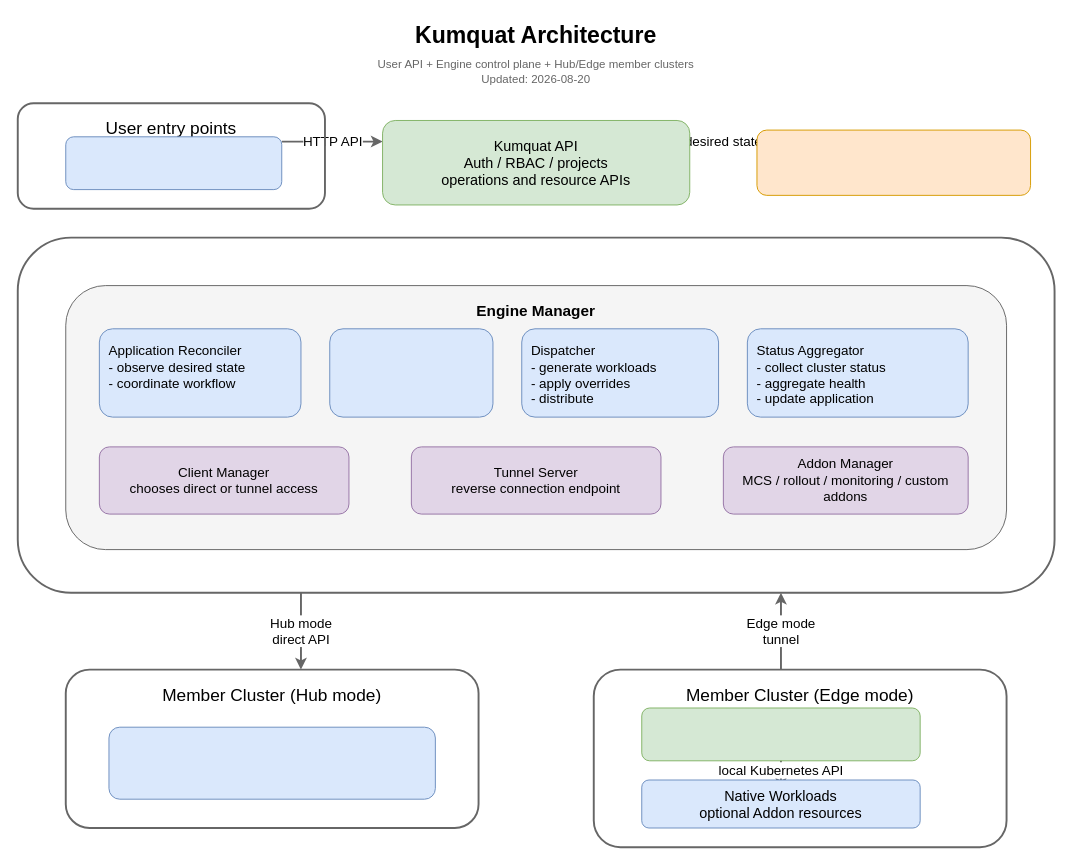
This 1071x864 diagram has some shape labels left out. The shapes that lost their labels are listed below. From the top down, each one's box as (x1, y1, x2, y2) in pixels, then its label:
(65, 136, 282, 190): Users / Automation kumctl
(756, 129, 1031, 195): Engine APIs Application | ManagedCluster | Workspace
(329, 328, 493, 417): Scheduler - choose target clusters - balance replicas - honor placement policy
(16, 236, 1055, 593): Hub Cluster
(641, 707, 920, 761): Engine Agent tunnel client and heartbeat
(108, 726, 435, 799): Native Workloads Deployment / Job / Service optional Addon resources
